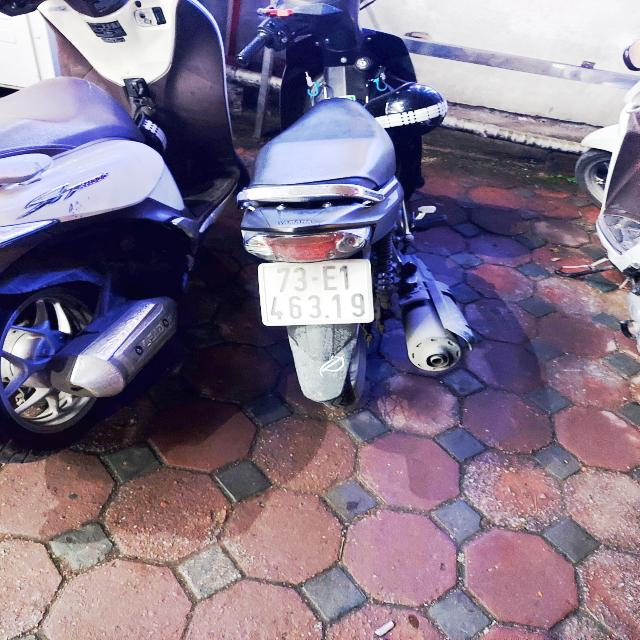license_plate: (253, 255, 382, 329)
